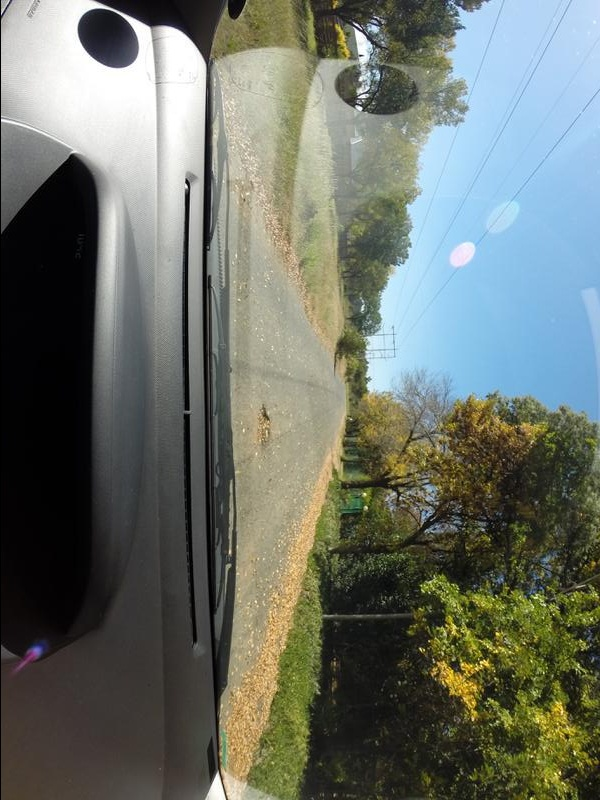pothole: (248, 400, 279, 451)
